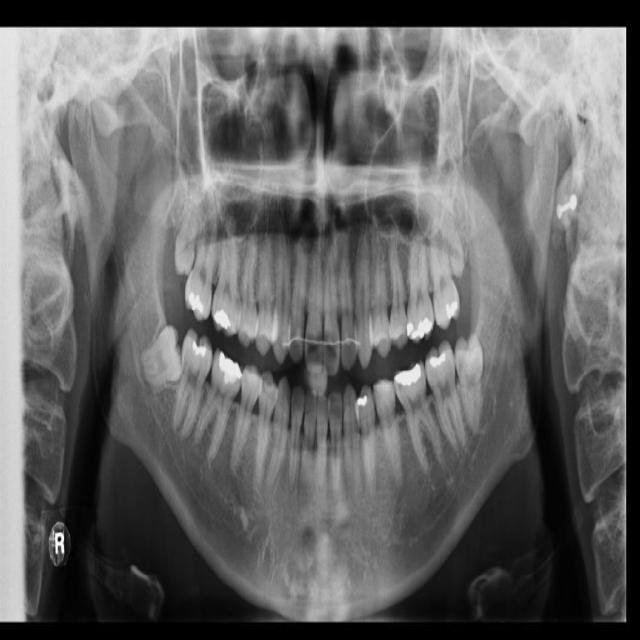3M ESPE Implant: (171, 184, 204, 278)
52: (197, 347, 254, 402), (385, 357, 439, 411), (172, 326, 224, 379), (414, 338, 465, 392), (429, 276, 463, 331), (208, 287, 244, 338), (184, 267, 213, 321), (405, 295, 436, 345), (353, 383, 377, 429)
73: (578, 518, 586, 534)
BioHorizons Implant: (426, 209, 462, 331)
BioLife Implant: (444, 211, 467, 280)
Biomet 3i Implant: (454, 333, 484, 436)
Blue Sky Bio Implant: (421, 339, 468, 456)
Caries: (182, 185, 227, 324)
Implant: (170, 327, 216, 440)
Keystone Dental Implant: (132, 323, 190, 392)
